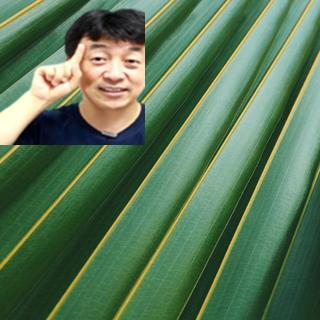IRRITATED: (29, 42, 87, 106)
